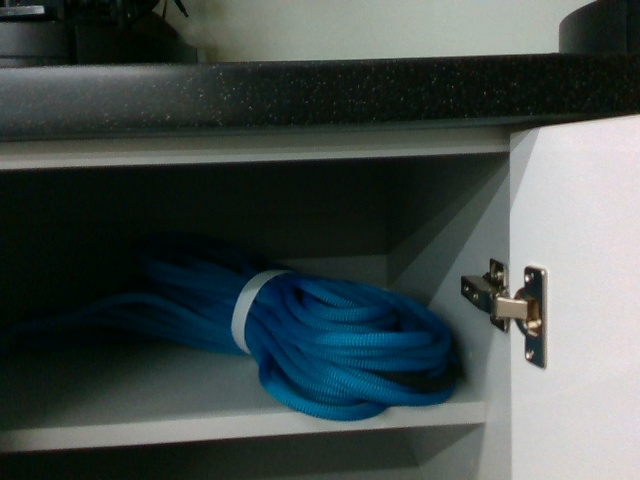rope: (199, 276, 461, 419)
